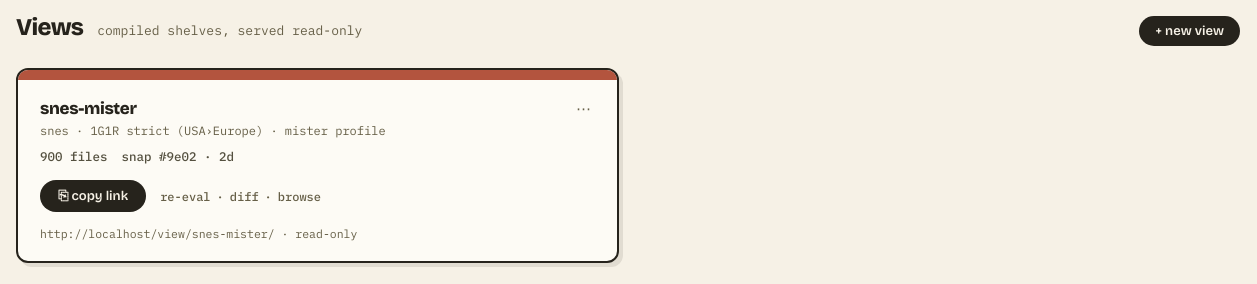
Test case: copy link puts the absolute HTTP endpoint on the clipboard
This screenshot has width=1257, height=284.
Step 1. Click the button "⎘ copy link" → [93, 196], box [40,180,146,212]
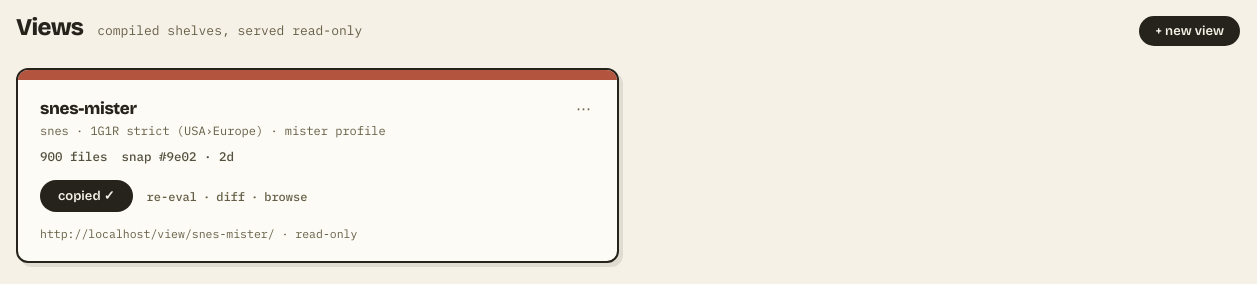
Expected: the button "copied ✓" is shown, [40,180,133,212]
